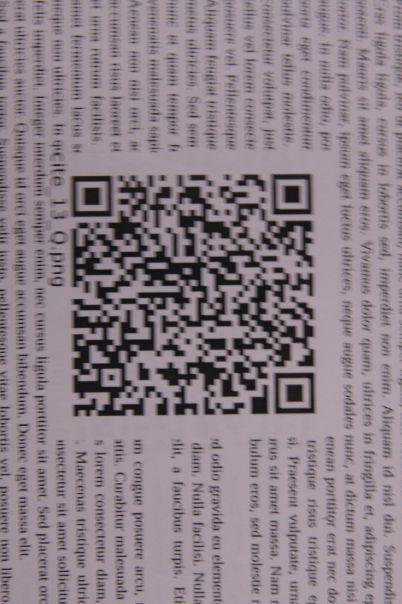Finder pattern: (269, 366, 321, 420), (66, 169, 118, 221), (268, 170, 318, 219)
